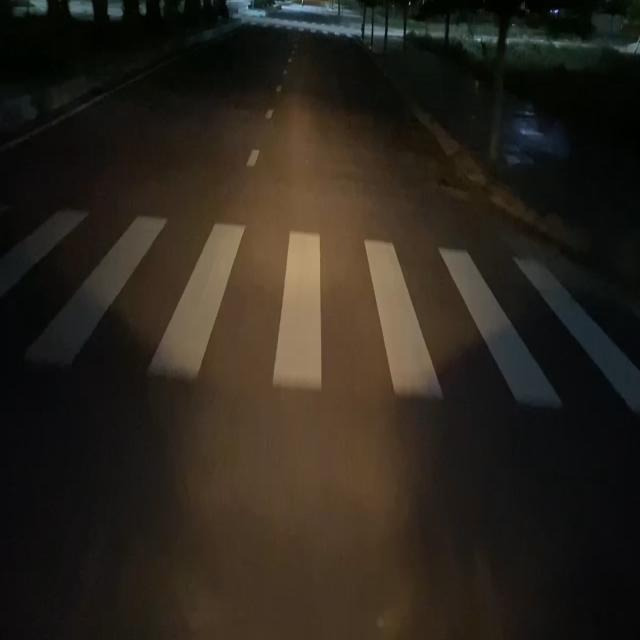walk-crossing: (0, 199, 640, 414)
